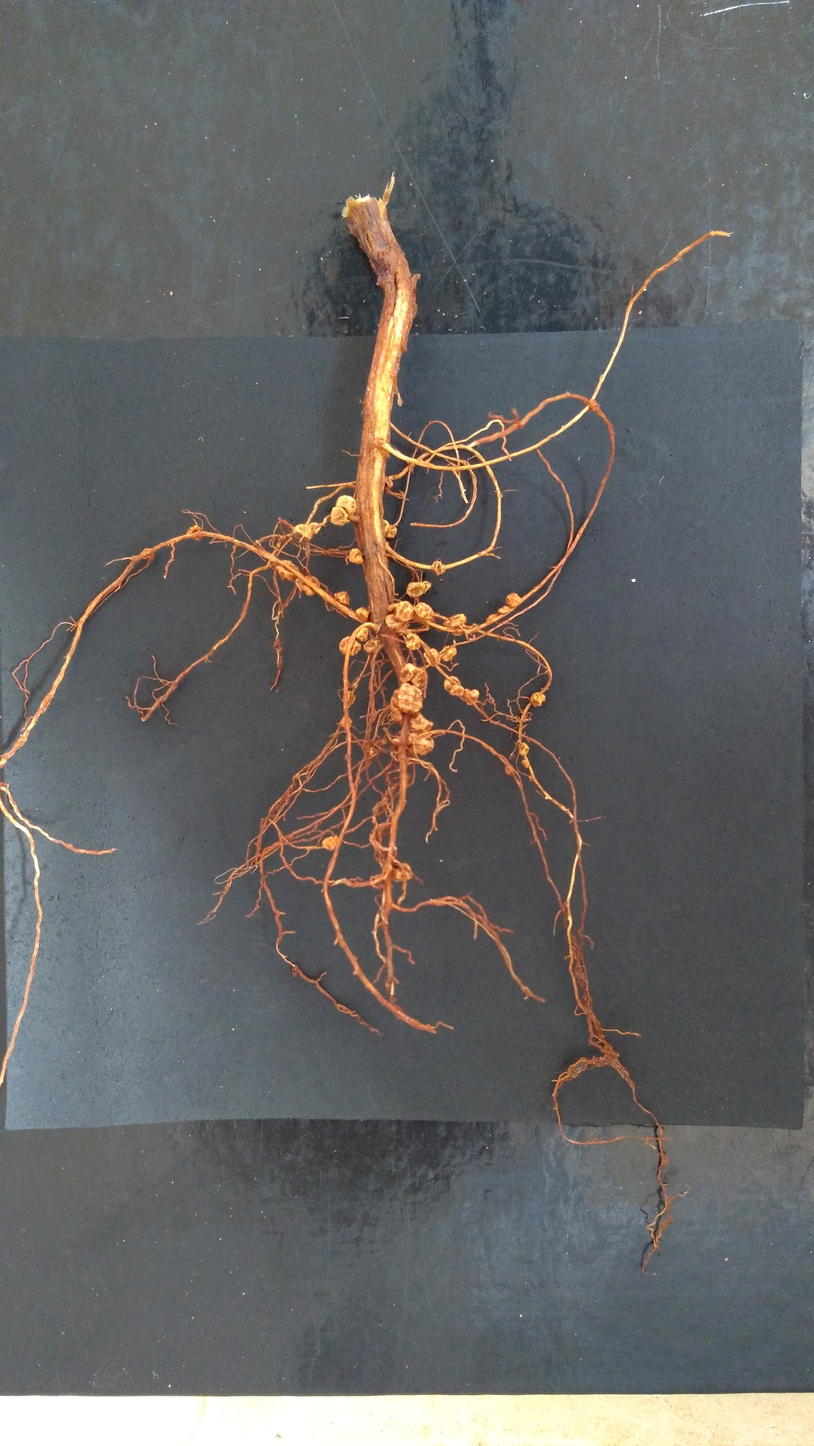nodule: (397, 661, 429, 700), (394, 683, 425, 716), (387, 686, 405, 724), (407, 709, 434, 734), (274, 559, 300, 582), (295, 574, 321, 597), (334, 494, 358, 518), (392, 859, 415, 884), (338, 634, 362, 657), (413, 733, 436, 757), (291, 522, 315, 543), (329, 505, 349, 528), (185, 523, 206, 544), (395, 599, 414, 622), (442, 612, 467, 629), (405, 580, 426, 599), (414, 602, 435, 621), (441, 674, 462, 693), (422, 647, 441, 667), (460, 688, 480, 707), (320, 834, 340, 853), (385, 612, 404, 631), (362, 637, 382, 655), (438, 644, 458, 662), (529, 690, 547, 709), (332, 589, 351, 606), (353, 605, 370, 624), (405, 633, 422, 651), (348, 547, 364, 566), (504, 592, 523, 608), (430, 560, 447, 577), (339, 714, 354, 731), (342, 690, 357, 707), (139, 546, 155, 561), (448, 683, 465, 697), (355, 627, 370, 642), (384, 524, 398, 539), (517, 741, 530, 757), (308, 521, 322, 535), (420, 579, 433, 593), (383, 475, 394, 489), (485, 612, 500, 622), (449, 628, 463, 637), (497, 605, 511, 614), (520, 759, 531, 769)
